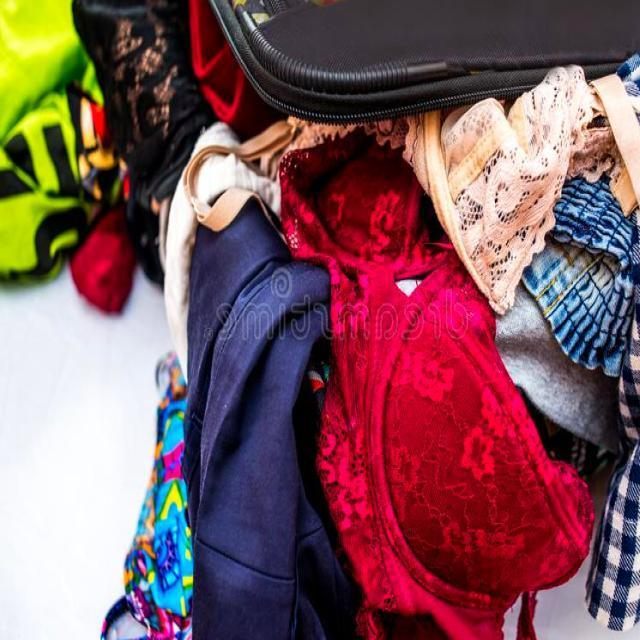clothes: (336, 267, 581, 640), (174, 212, 360, 640)
